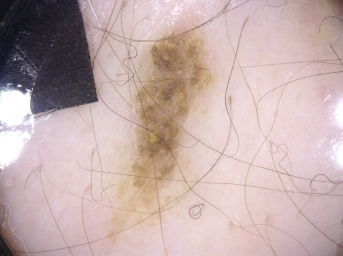seborrheic keratosis: (114, 28, 215, 219)
